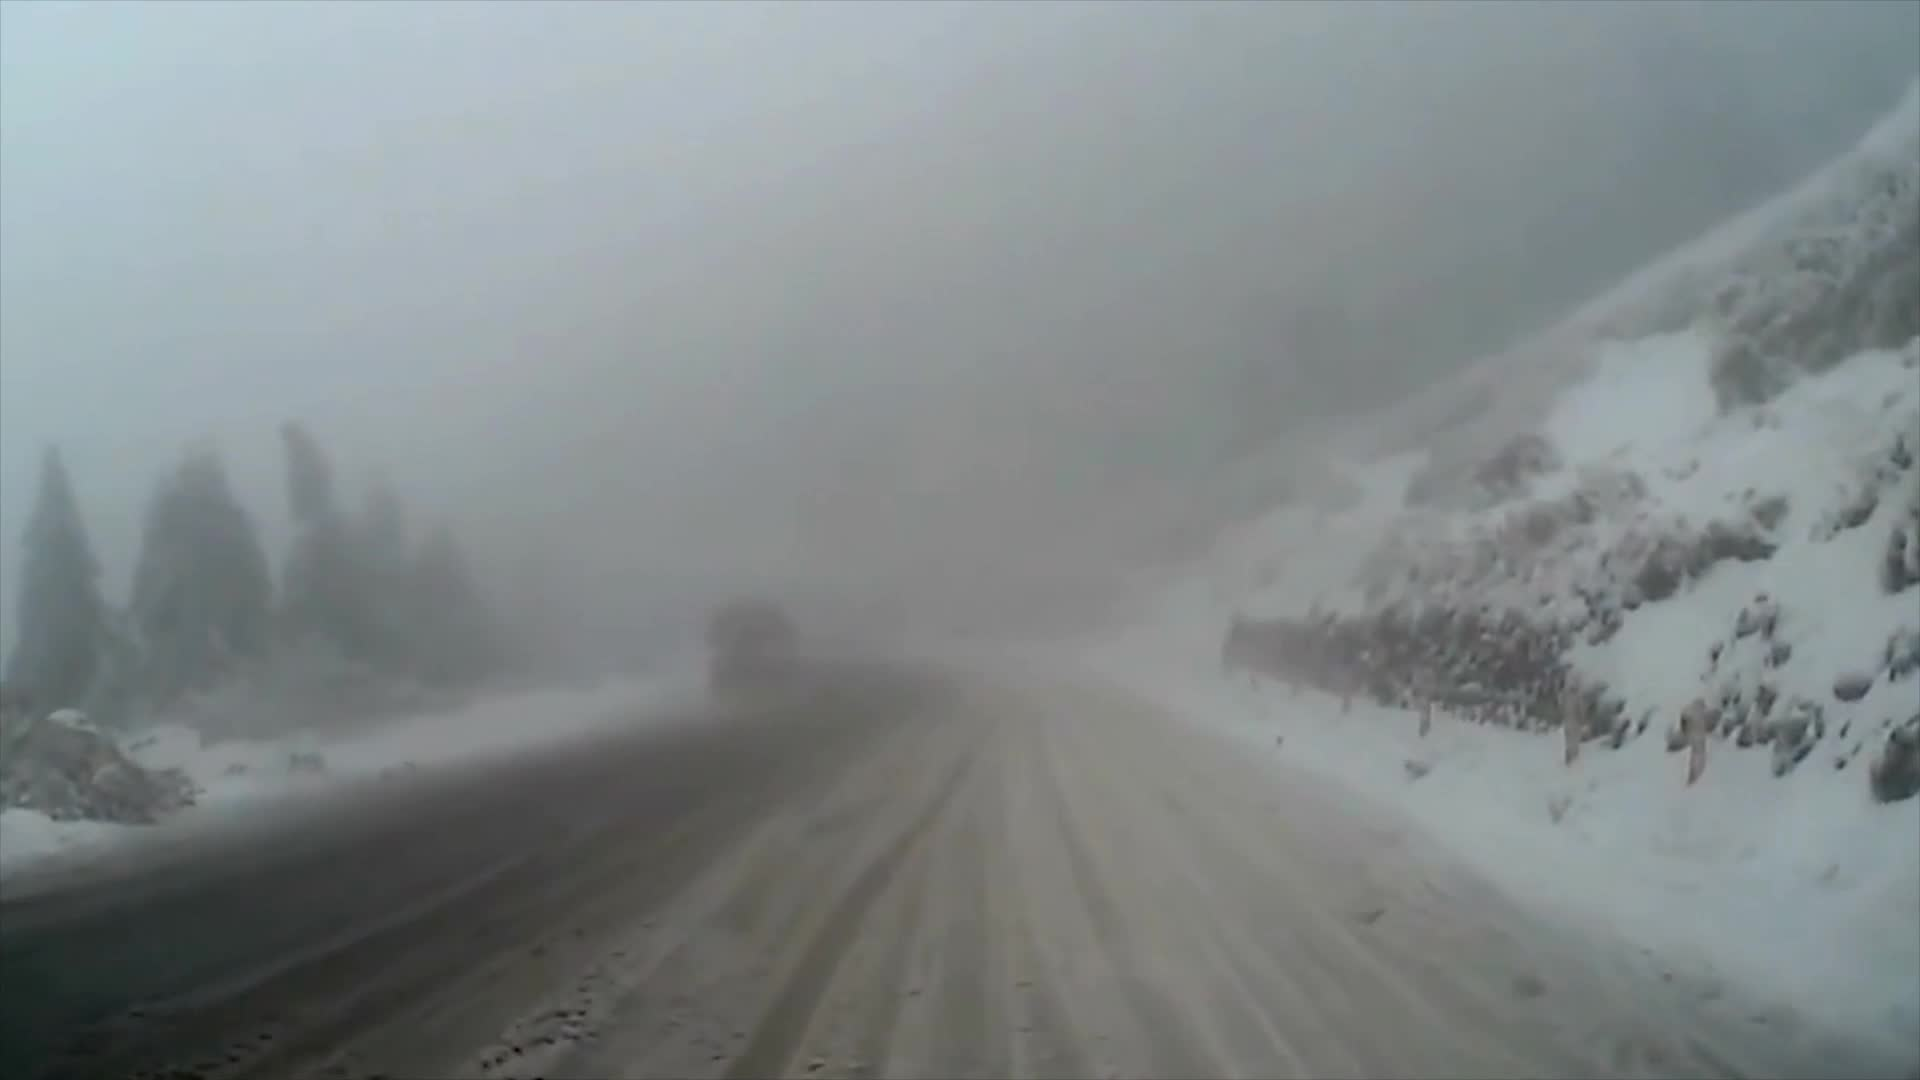vehicle: (700, 603, 798, 695)
